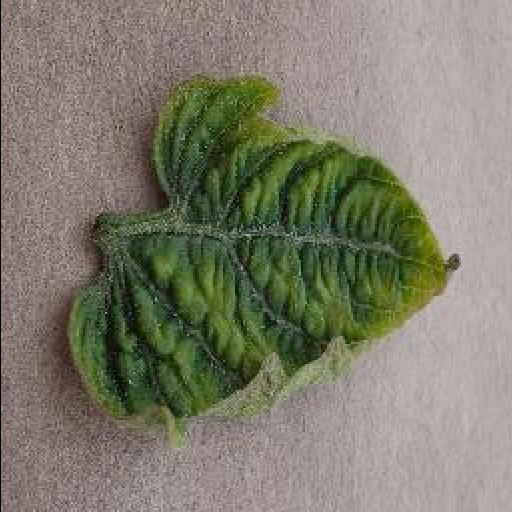disease_tomato: (66, 71, 460, 436)
